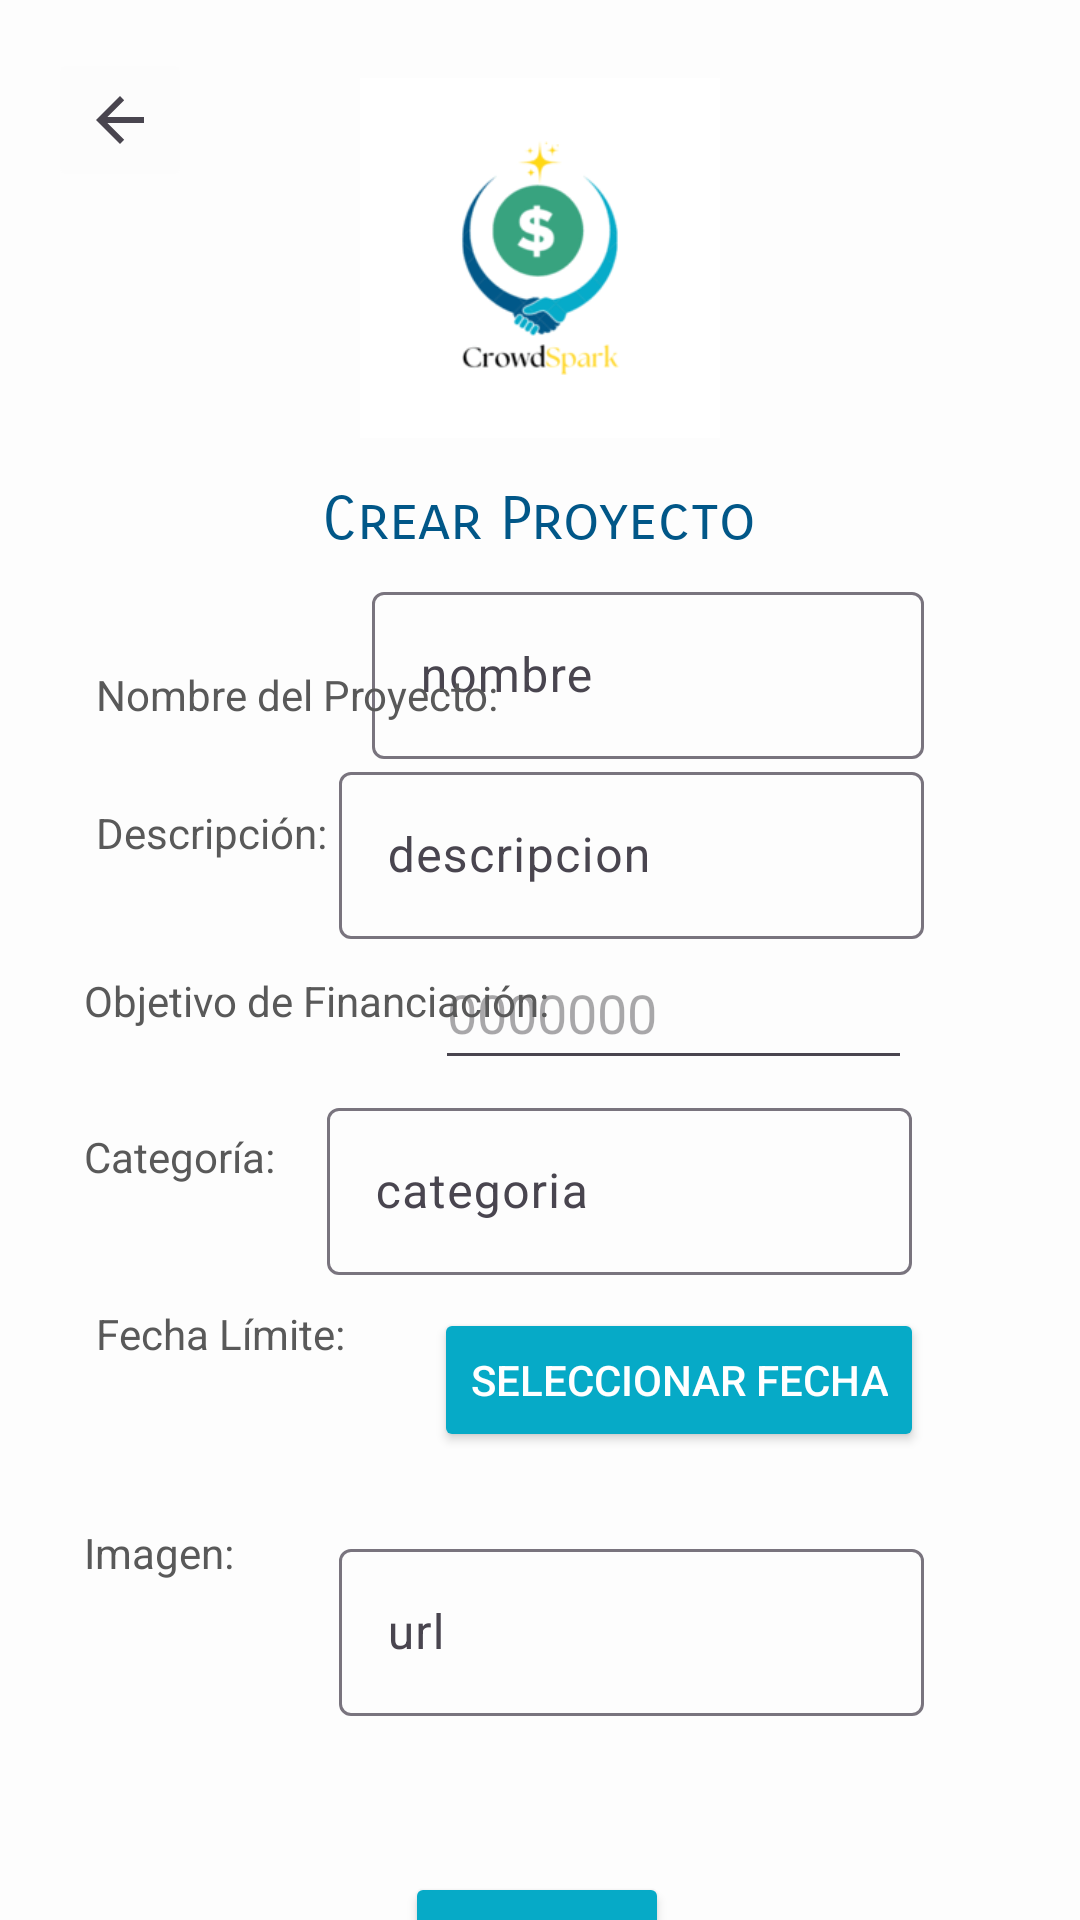

Where to tap for icons on this 1080×1920 app screen, as [x,y]:
Go back: [120,120]
